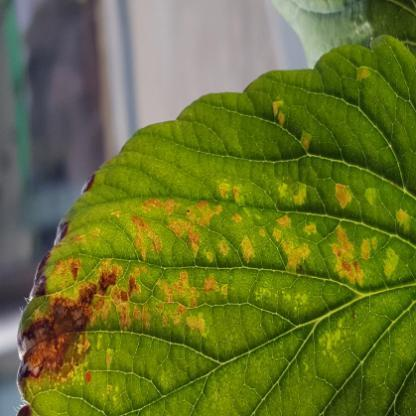Strawberry_Angular_LeafSpot: (15, 57, 416, 415)
